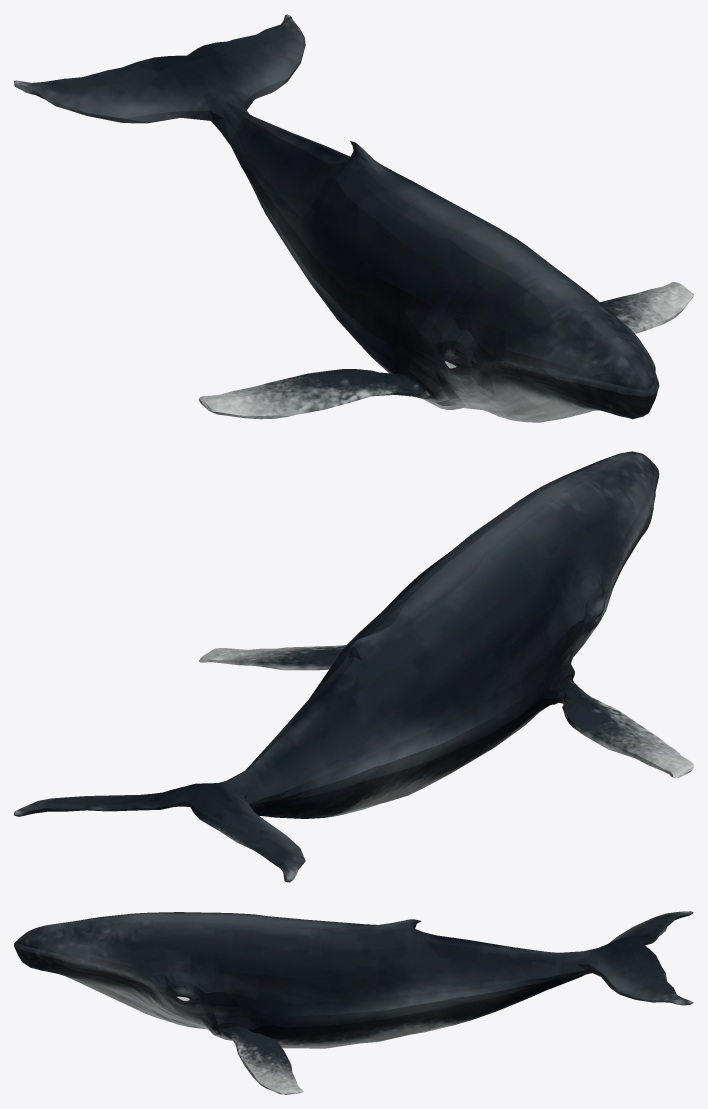
File: ballena.glb
3 views of the same model, one above another, from view 1: azimuth 30°, elevation 25°; view 2: azimuth 150°, elevation 25°; view 3: azimuth 270°, elevation 25° (orthographic). The views are drawn at different scales.
Parts seen in each view (by area): view 1: Object_2; view 2: Object_2; view 3: Object_2.
Part boxes in pixels (box(x1,y1,x2,y2)): Object_2: box(14, 14, 693, 422); Object_2: box(14, 451, 693, 882); Object_2: box(14, 911, 693, 1094).
Bounding box in the file's own units: 28.88 × 10.6 × 51.95.
1 material, 1 textured.
